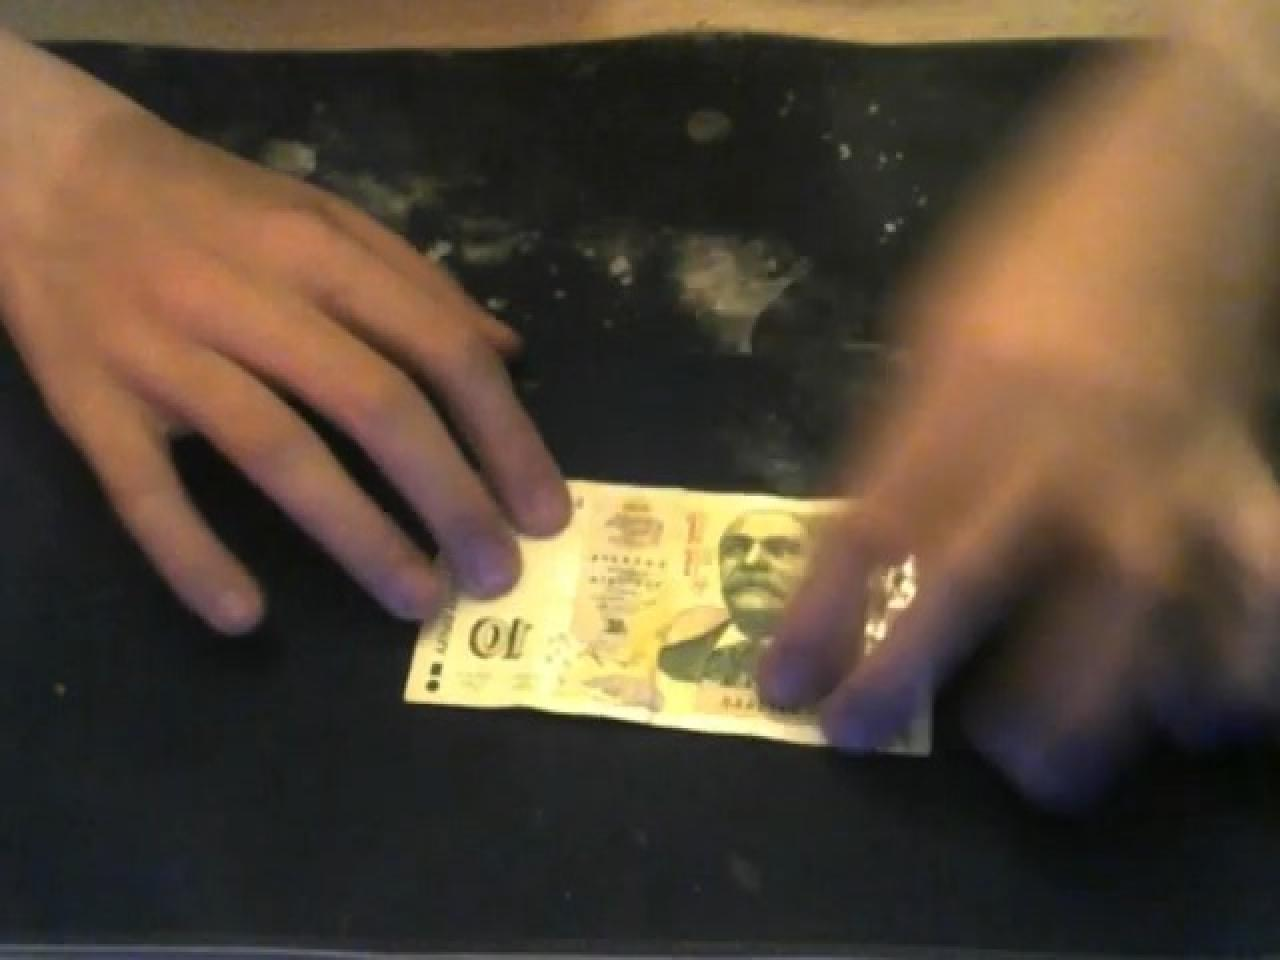10leva: (402, 480, 846, 746)
